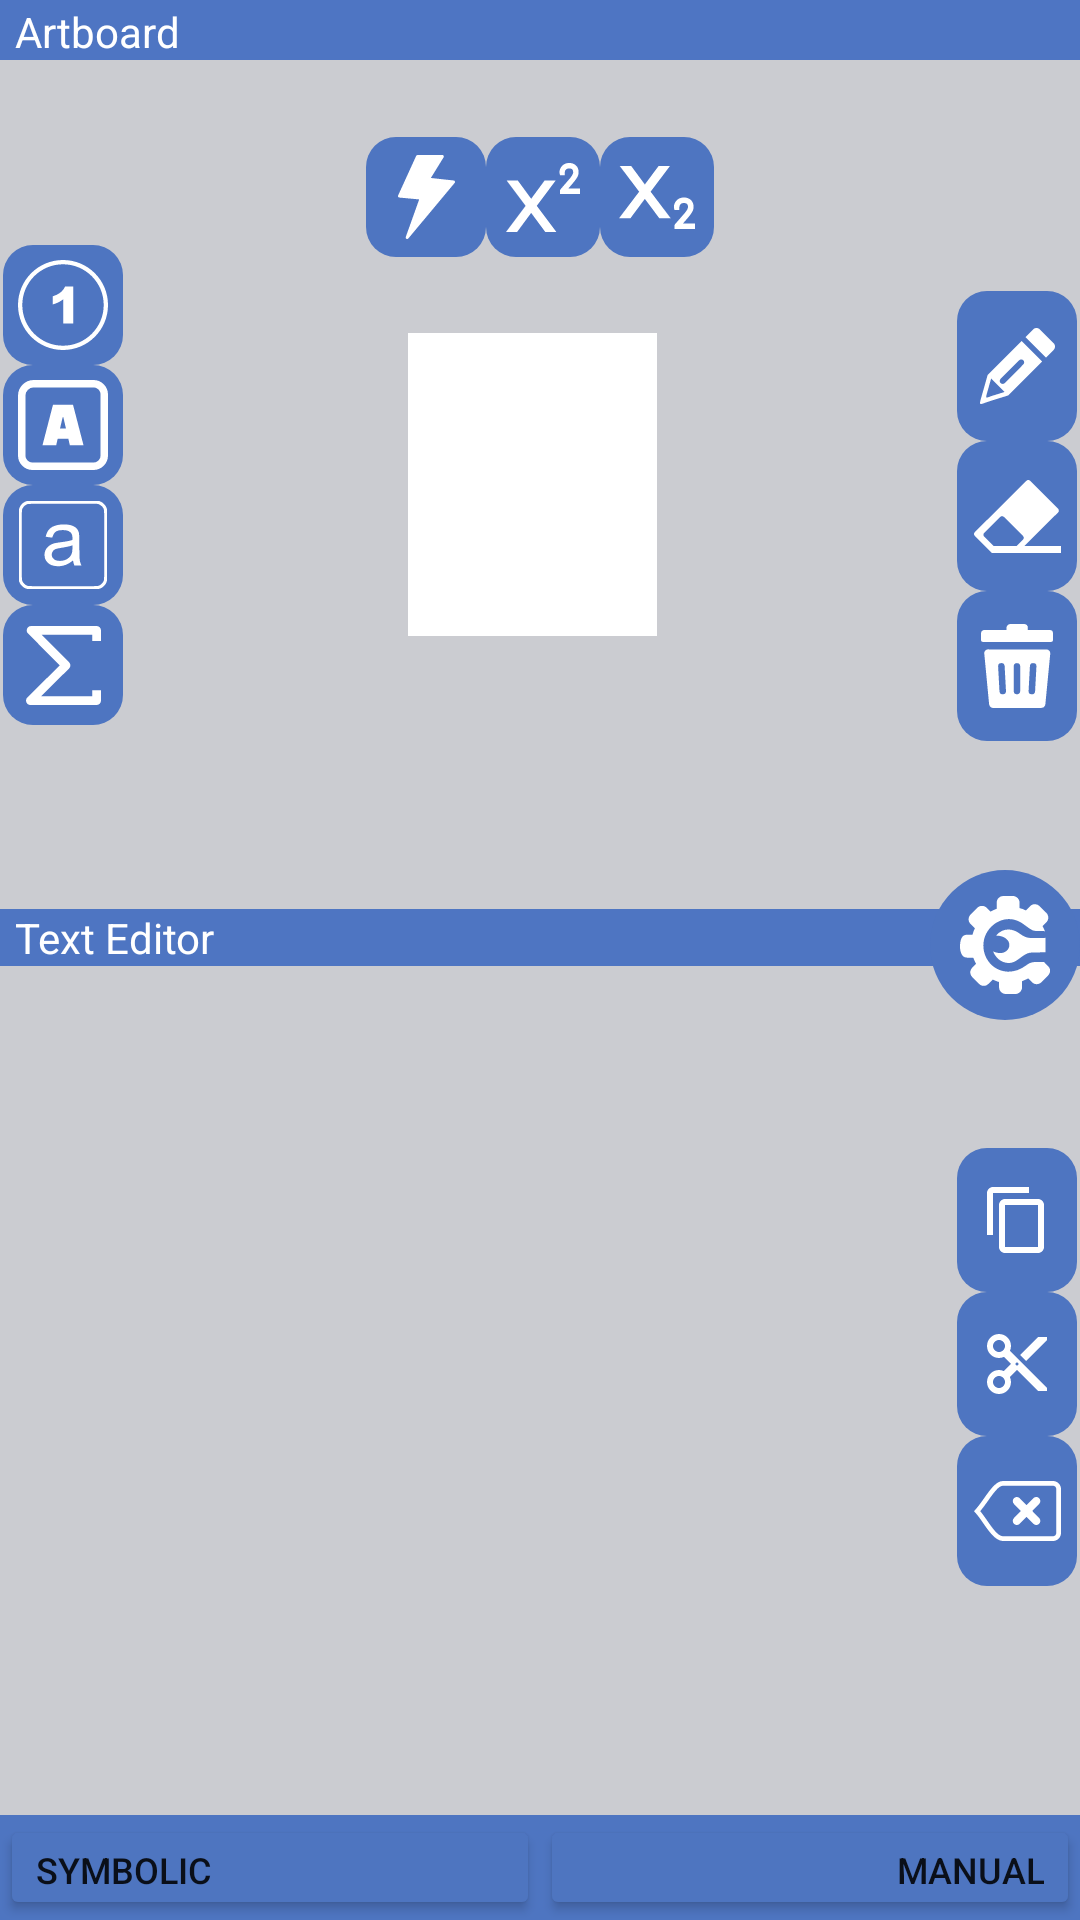

Screen size 1080*1920. Icon name, then its box in pixels as (x1, y1, x2, y2):
alphabet: (3, 365, 123, 485)
backspace: (957, 1436, 1077, 1586)
copy: (957, 1148, 1077, 1292)
customizable: (930, 870, 1080, 1020)
cut: (957, 1292, 1077, 1436)
delete: (957, 591, 1077, 741)
draw: (957, 291, 1077, 441)
erase: (957, 441, 1077, 591)
flash thunder: (366, 137, 486, 257)
number one: (3, 245, 123, 365)
sigma sum: (3, 605, 123, 725)
smaller: (3, 485, 123, 605)
subscript: (600, 137, 714, 257)
superscript: (486, 137, 600, 257)
